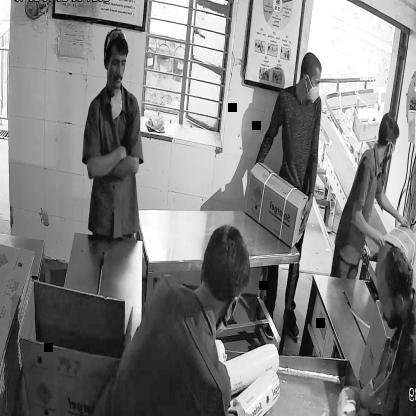no_goggles: (107, 53, 132, 75)
